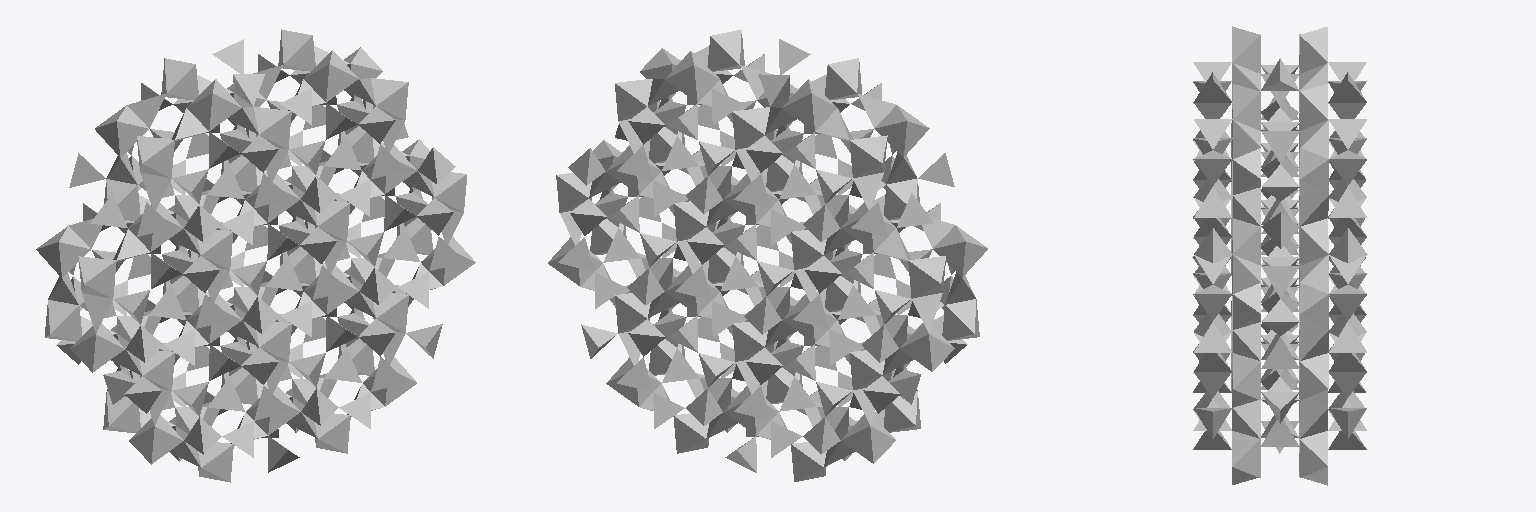
The model's file is Beryl.obj.
The picture shows the model from 3 angles: view 1: azimuth 30°, elevation 25°; view 2: azimuth 150°, elevation 25°; view 3: azimuth 270°, elevation 25°; orthographic projection.
Visible parts, largest first — view 1: Beryl6; view 2: Beryl6; view 3: Beryl6.
Boxes of the visible parts, box(x1,y1,x2,y2) form: Beryl6: box(36, 29, 475, 482); Beryl6: box(548, 30, 987, 481); Beryl6: box(1192, 26, 1367, 485).
Bounding box in the file's own units: 315 × 302 × 122.